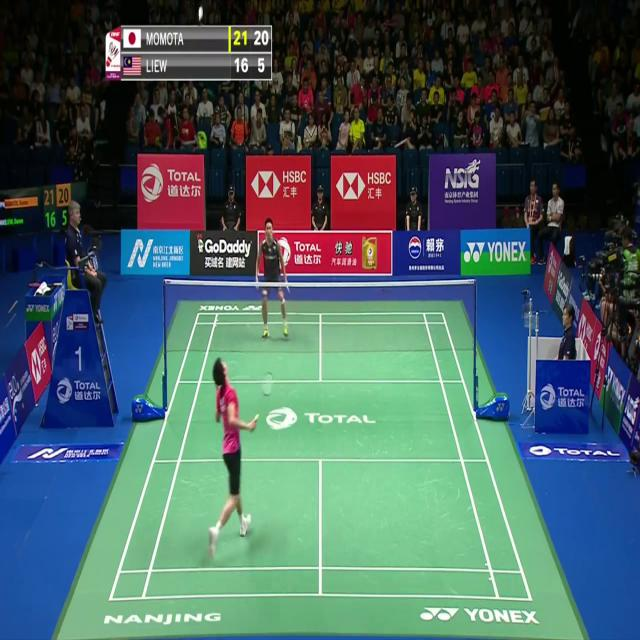Shuttlecock: (197, 8, 203, 19)
